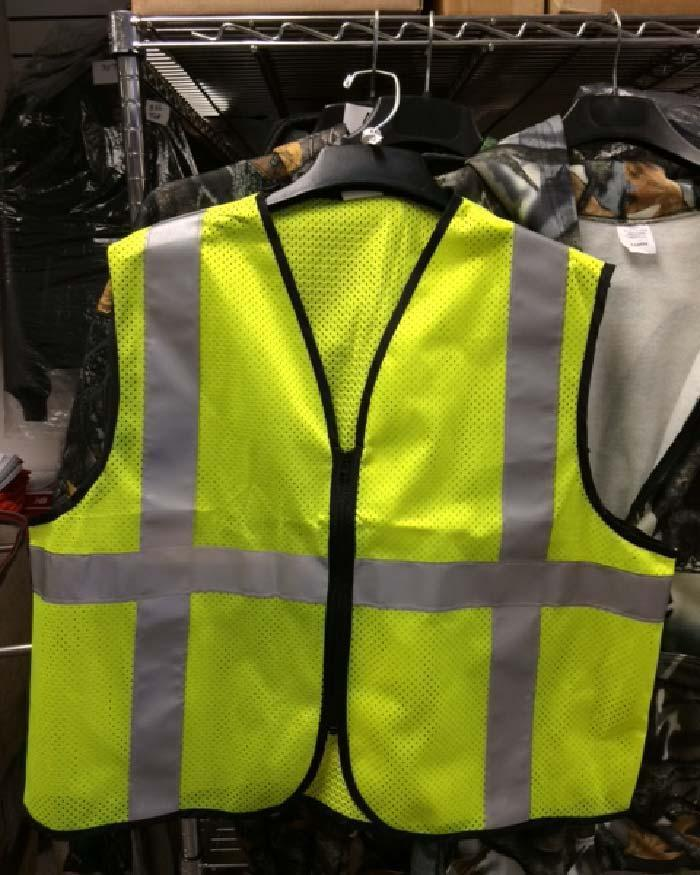vest: (26, 187, 672, 836)
